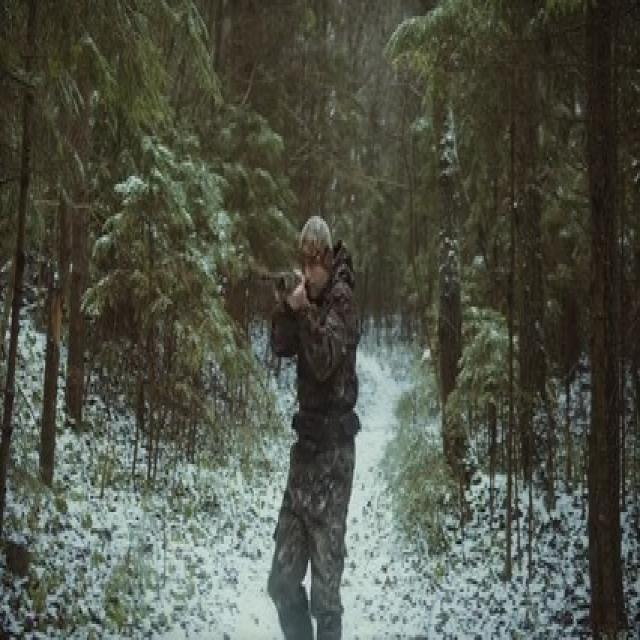Gun_Holder: (221, 253, 317, 303)
Person: (267, 210, 362, 640)
